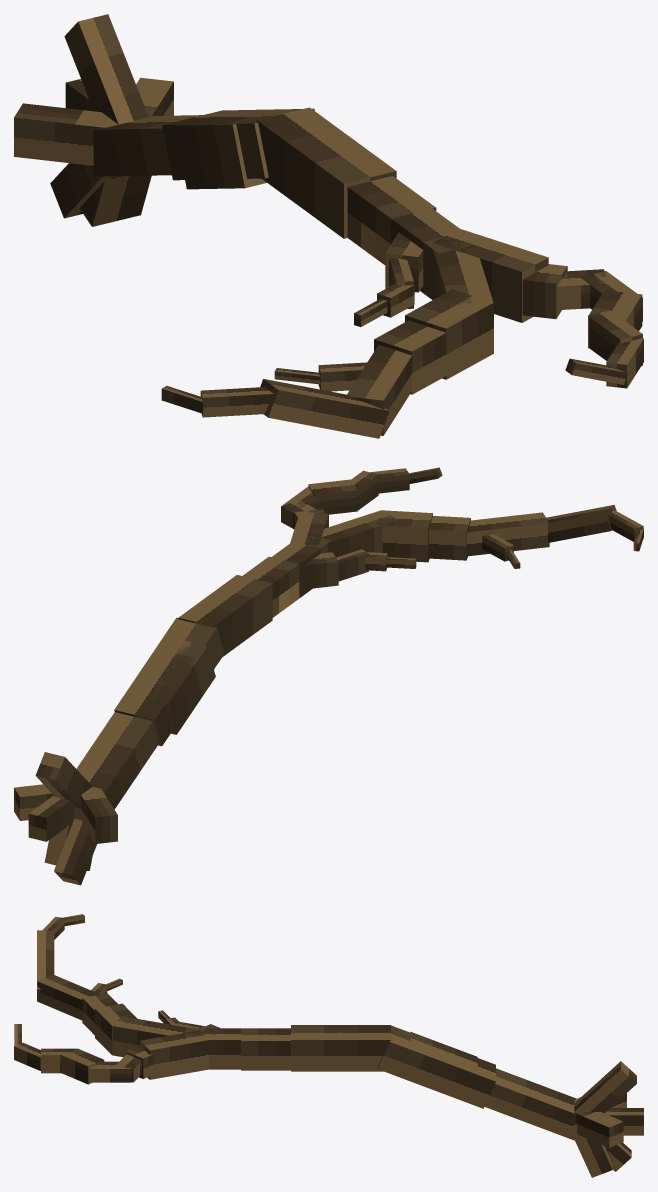
Rendered from stick.glb.
3 renders of one model, top to bottom at view 1: azimuth 30°, elevation 25°; view 2: azimuth 150°, elevation 25°; view 3: azimuth 270°, elevation 25°, orthographic. The views are drawn at different scales.
Parts seen in each view (by area): view 1: cube_23, cube_28, cube_31, cube_20, cube_22, cube_25, cube_26, cube_1, cube_16, cube_24, cube_19, cube_18 (+19 smaller); view 2: cube_24, cube_26, cube_23, cube_25, cube_19, cube_22, cube_17, cube_16, cube_28, cube_29, cube_20, cube_18 (+12 smaller); view 3: cube_24, cube_23, cube_26, cube_1, cube_16, cube_28, cube_17, cube_0, cube_19, cube_32, cube_22, cube_27 (+11 smaller).
Boxes of the visible parts, left/top/right/bottom form: cube_23: left=257, top=107, right=396, bottom=238; cube_28: left=64, top=14, right=148, bottom=124; cube_31: left=14, top=103, right=118, bottom=165; cube_20: left=260, top=379, right=389, bottom=438; cube_22: left=405, top=289, right=493, bottom=379; cube_25: left=174, top=119, right=266, bottom=189; cube_26: left=91, top=115, right=202, bottom=176; cube_1: left=433, top=228, right=548, bottom=322; cube_16: left=347, top=176, right=436, bottom=264; cube_24: left=162, top=108, right=314, bottom=180; cube_19: left=347, top=345, right=412, bottom=435; cube_18: left=374, top=320, right=446, bottom=394; cube_24: left=114, top=617, right=224, bottom=746; cube_26: left=76, top=712, right=158, bottom=809; cube_23: left=178, top=575, right=272, bottom=657; cube_25: left=149, top=638, right=215, bottom=734; cube_19: left=467, top=512, right=549, bottom=556; cube_22: left=376, top=510, right=432, bottom=562; cube_17: left=321, top=510, right=397, bottom=557; cube_16: left=243, top=556, right=299, bottom=617; cube_28: left=35, top=752, right=92, bottom=808; cube_29: left=54, top=818, right=96, bottom=885; cube_20: left=546, top=505, right=616, bottom=542; cube_18: left=429, top=516, right=470, bottom=560; cube_24: left=377, top=1025, right=495, bottom=1108; cube_23: left=291, top=1025, right=390, bottom=1071; cube_26: left=484, top=1068, right=576, bottom=1140; cube_1: left=140, top=1030, right=208, bottom=1079; cube_16: left=241, top=1028, right=290, bottom=1070; cube_28: left=574, top=1061, right=636, bottom=1113; cube_17: left=112, top=1016, right=190, bottom=1057; cube_0: left=185, top=1028, right=240, bottom=1069; cube_19: left=37, top=975, right=100, bottom=1020; cube_32: left=574, top=1112, right=623, bottom=1147; cube_22: left=95, top=1003, right=138, bottom=1054; cube_27: left=569, top=1124, right=612, bottom=1177.
Size of the model in its own units: 0.8087 by 0.4232 by 1.57.
1 material, 1 textured.
